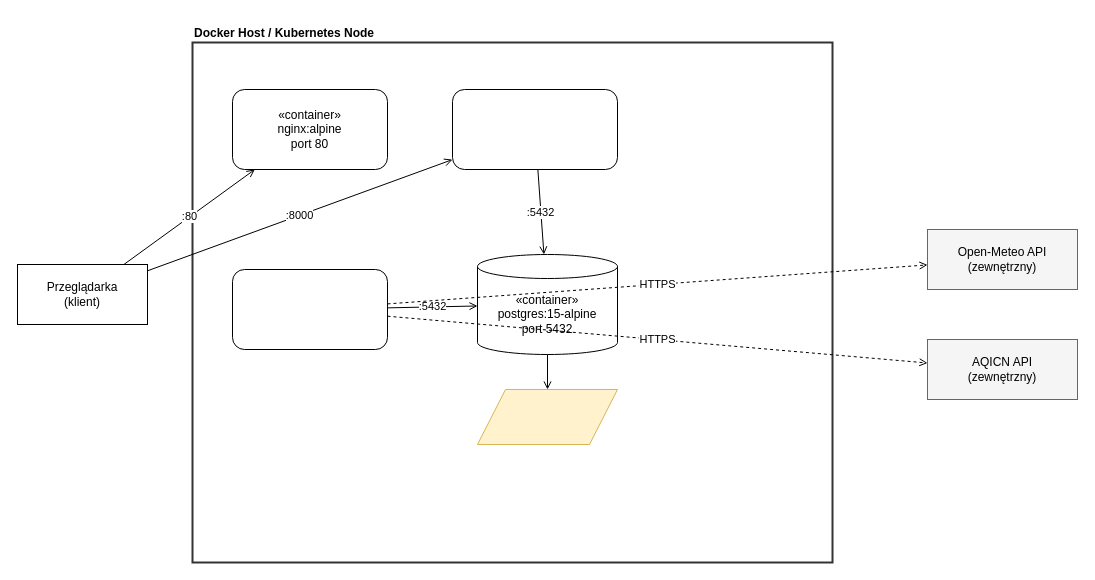
This 1095x580 diagram has some shape labels left out. The shapes that lost their labels are listed below. From the top down, each one's box as (x1, y1, x2, y2) in pixels, then its label:
(452, 88, 618, 170): «container» fastapi (uvicorn) port 8000 ×2 repliki
(232, 268, 388, 350): «container» python ingestion 1 replika
(476, 388, 618, 444): PersistentVolume pgdata
